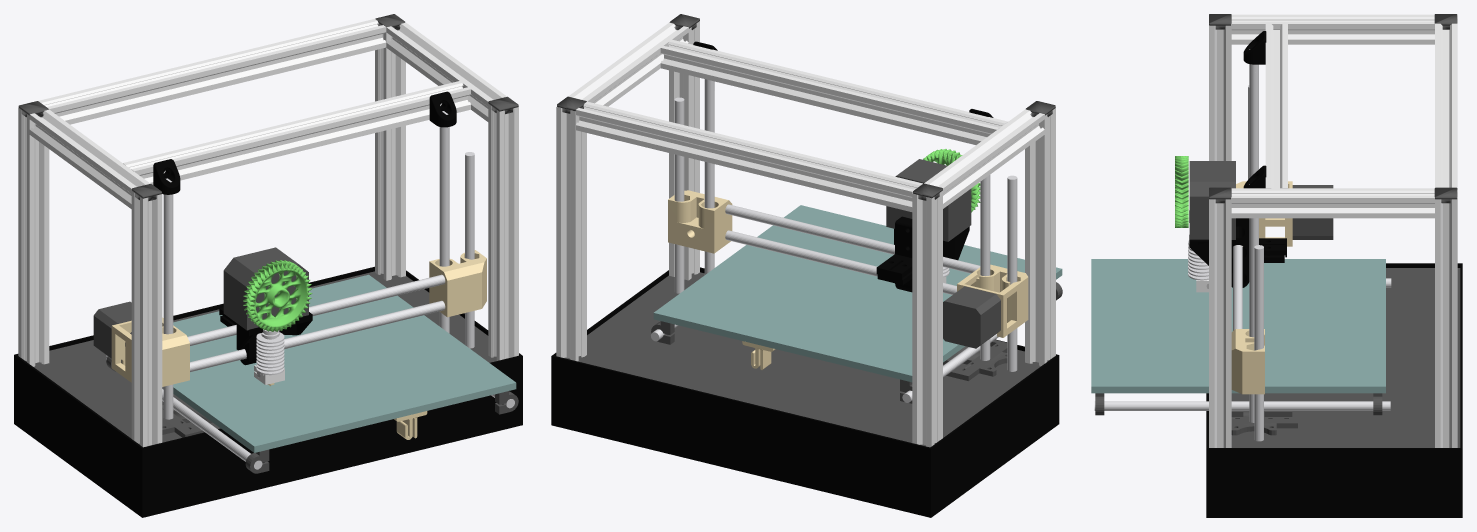
File: 3dprinter.gltf
The picture shows the model from 3 angles, left to right: view 1: azimuth 30°, elevation 25°; view 2: azimuth 150°, elevation 25°; view 3: azimuth 270°, elevation 25°; orthographic projection.
Visible parts, largest first — view 1: Untitled.002, Body3.001, Body1.004, Body1.007, Body1, Body1.001, Body1.002, Cube, Body1.003, Body1.006, Body1.005, Untitled.026 (+15 smaller); view 2: Body3.001, Untitled.002, Cube, Body1.004, Body1.007, Body1.002, Body1.003, Body1, Body1.006, Body1.005, Untitled.004, Body1.001 (+13 smaller); view 3: Untitled.002, Body3.001, Cube, Body1.005, Body1.006, Body1.003, Body1.001, Body1.004, Body1.007, Body1, Untitled.009, Body4.001 (+13 smaller).
Boxes of the visible parts, x1,y1,x2,y2 form: Untitled.002: (173,274,516,452); Body3.001: (14,266,522,517); Body1.004: (38,19,386,124); Body1.007: (123,81,470,184); Body1: (131,191,162,447); Body1.001: (488,104,518,360); Body1.002: (18,108,49,366); Cube: (25,271,496,444); Body1.003: (375,23,405,280); Body1.006: (29,109,150,209); Body1.005: (386,22,506,121); Untitled.026: (243,260,312,331); Body3.001: (551,267,1059,517); Untitled.002: (653,205,1062,382); Cube: (564,272,1048,446); Body1.004: (576,101,922,211); Body1.007: (660,39,1007,144); Body1.002: (912,190,942,447); Body1.003: (556,106,586,361); Body1: (1025,107,1055,366); Body1.006: (924,109,1044,208); Body1.005: (568,22,688,106); Untitled.004: (668,190,732,253); Body1.001: (669,21,699,280); Untitled.002: (1091,259,1385,393); Body3.001: (1206,263,1462,517); Cube: (1231,268,1460,447); Body1.005: (1231,188,1434,218); Body1.006: (1231,14,1434,44); Body1.003: (1435,190,1457,447); Body1.001: (1209,199,1231,447); Body1.004: (1435,23,1457,189); Body1.007: (1265,23,1287,188); Body1: (1209,25,1231,160); Untitled.009: (1094,401,1390,410); Body4.001: (1189,161,1235,239).
Bounding box in the file's own units: 38.84 × 31.5 × 32.86.
